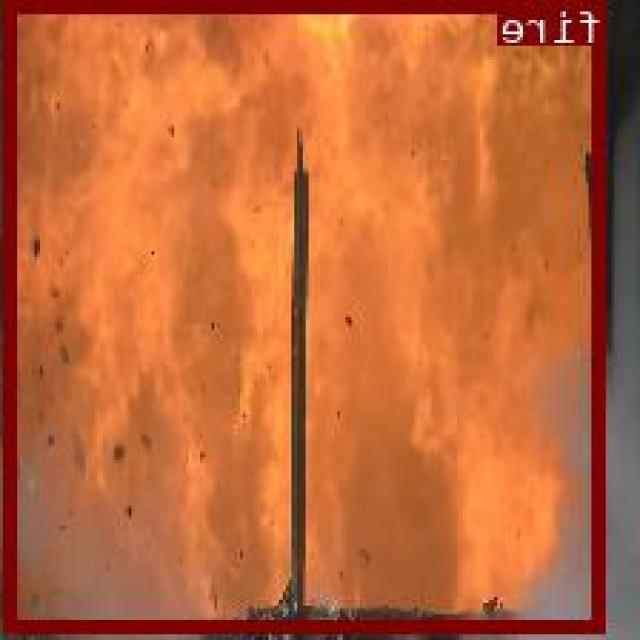fire: (6, 0, 608, 629)
